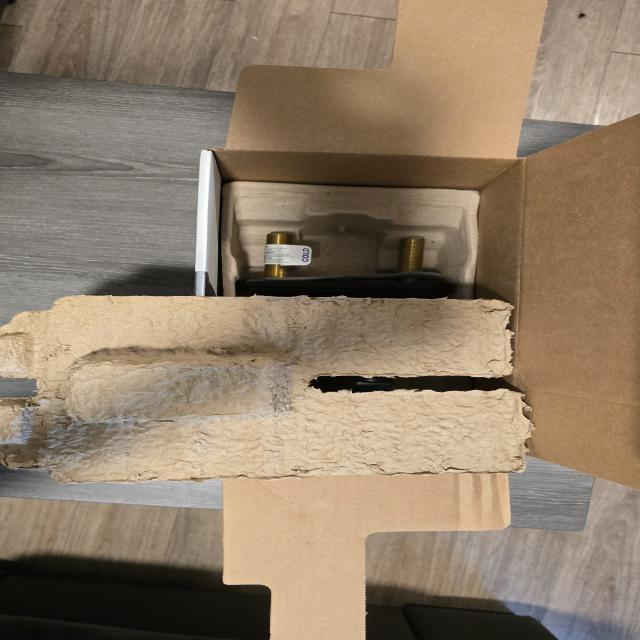9o: (235, 232, 454, 299), (309, 375, 521, 393)
